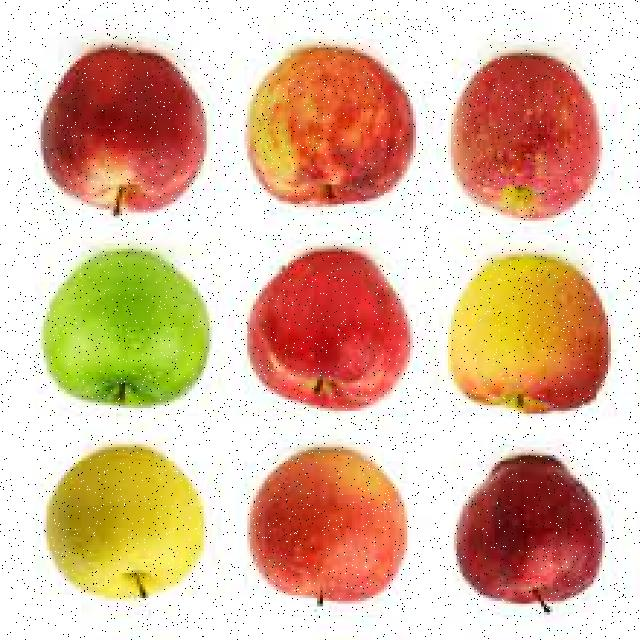Apple: (37, 43, 207, 217), (39, 244, 214, 409), (245, 248, 414, 414), (248, 44, 416, 206), (452, 252, 613, 413), (450, 446, 602, 612), (44, 445, 203, 602), (250, 450, 412, 604), (447, 58, 600, 220)
